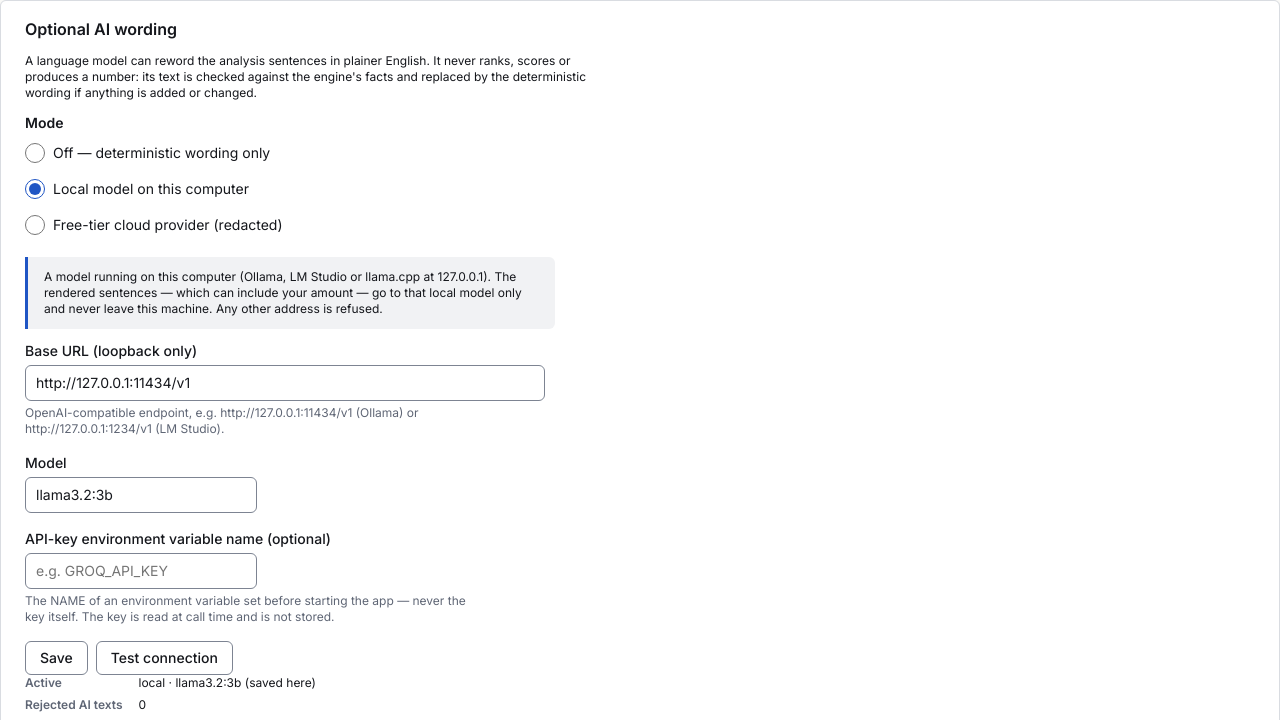
Scenario: Optional AI wording settings › test connection uses the status endpoint's probe
The image size is (1280, 720).
Click the button "Test connection" at (164, 658), box x1=96 y1=641 x2=233 y2=675
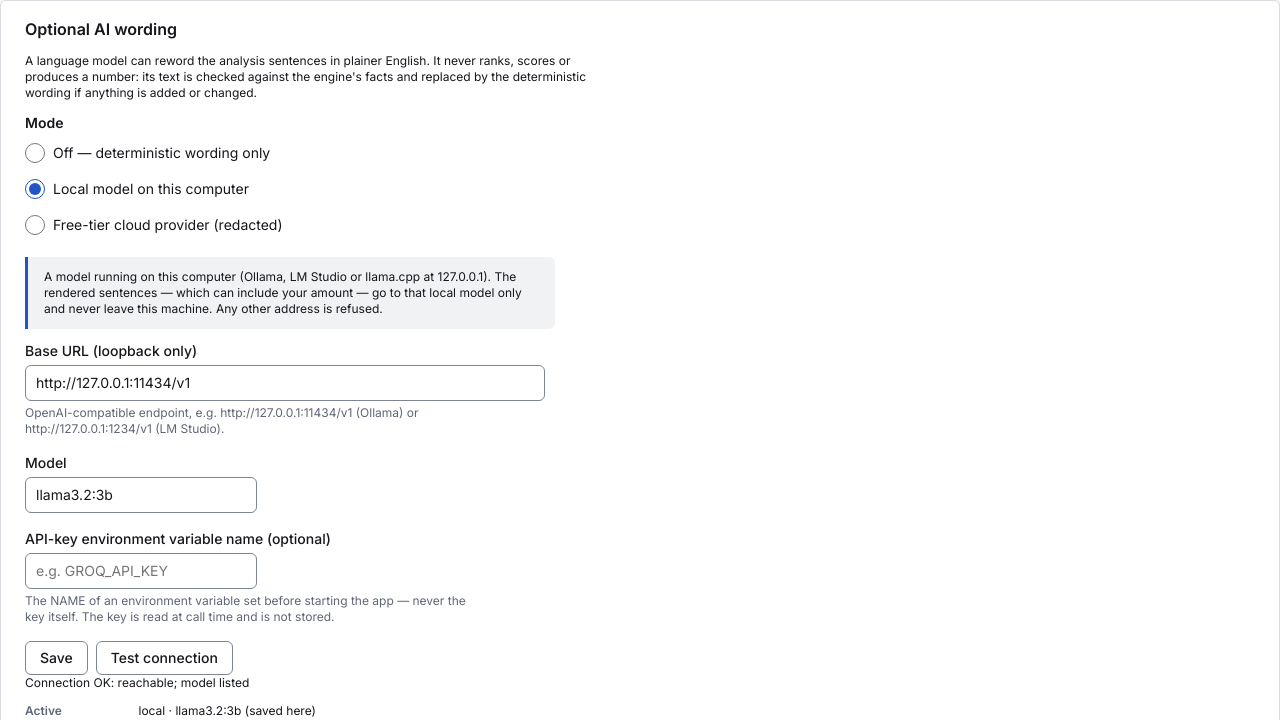
Check: the text "Connection OK: reachable; model listed" is shown, box x1=25 y1=675 x2=249 y2=690
